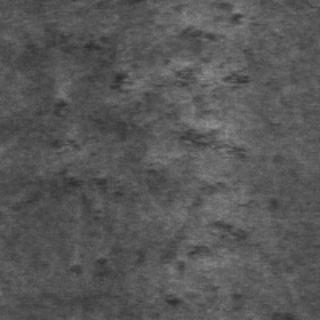rolled pit: (46, 22, 238, 150), (56, 164, 242, 272)
